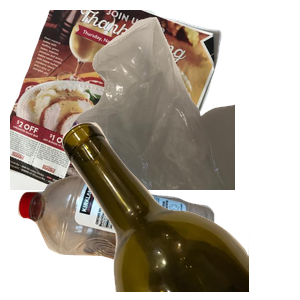glass: (60, 120, 300, 300)
paper: (10, 10, 224, 190)
plastic: (15, 173, 222, 300)
trash: (60, 14, 300, 194)
